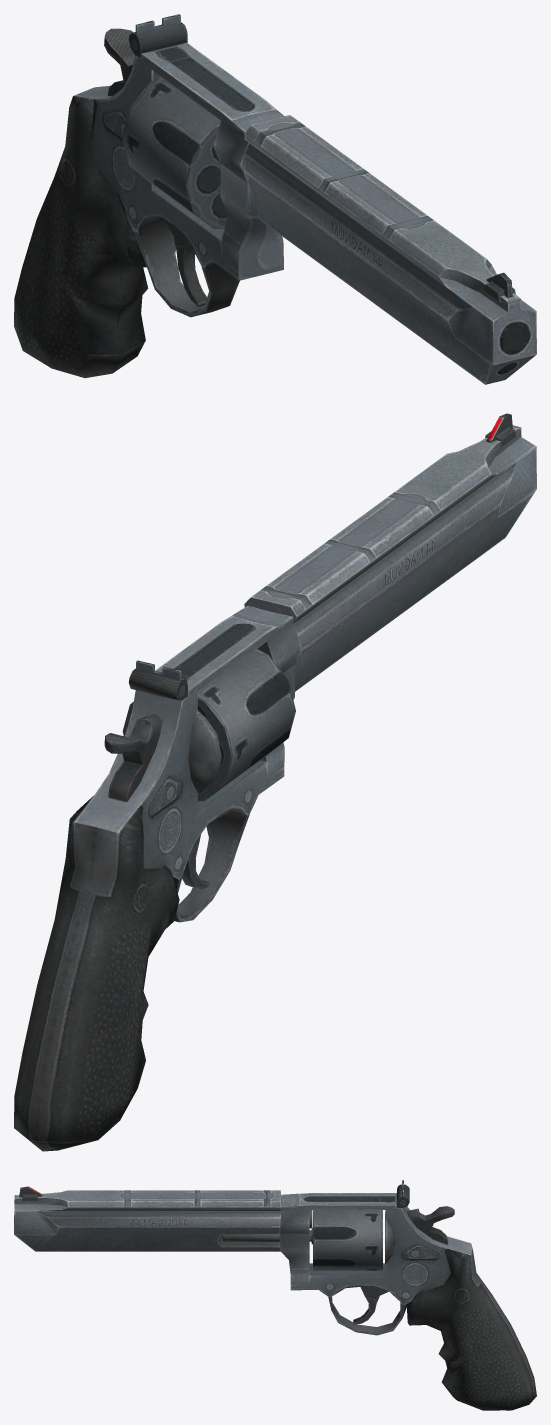
The model's file is Pistol_sq_02_Main_(000960).glb.
3 views of the same model, one above another, from view 1: azimuth 30°, elevation 25°; view 2: azimuth 150°, elevation 25°; view 3: azimuth 270°, elevation 25° (orthographic). The views are drawn at different scales.
Parts seen in each view (by area): view 1: sq_02; view 2: sq_02; view 3: sq_02.
Boxes of the visible parts, left/top/right/bottom form: sq_02: left=14, top=14, right=536, bottom=384; sq_02: left=14, top=413, right=536, bottom=1151; sq_02: left=14, top=1180, right=536, bottom=1410.
Bounding box in the file's own units: 0.0575 × 0.2066 × 0.436.
1 material, 1 textured.
